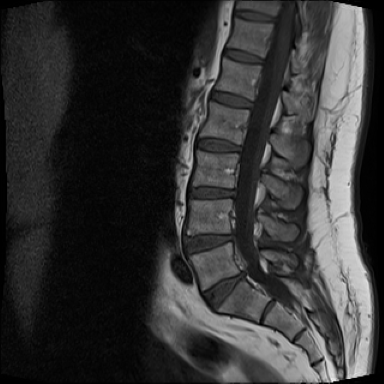Degenerative Disc Disease (DDD): (184, 177, 238, 207)
Lumbar Disc Bulge (LDB): (187, 260, 253, 317), (176, 221, 243, 263)
Normal IVD: (205, 83, 256, 114), (190, 132, 245, 157), (217, 43, 268, 69), (228, 5, 280, 26)
